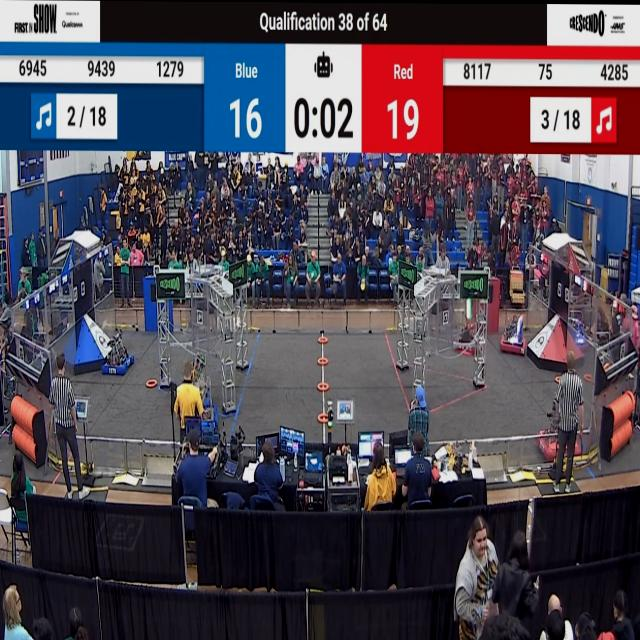Robot: (534, 364, 582, 461), (451, 293, 483, 357), (499, 300, 532, 361), (98, 326, 136, 377), (200, 386, 228, 433), (202, 358, 219, 416)
